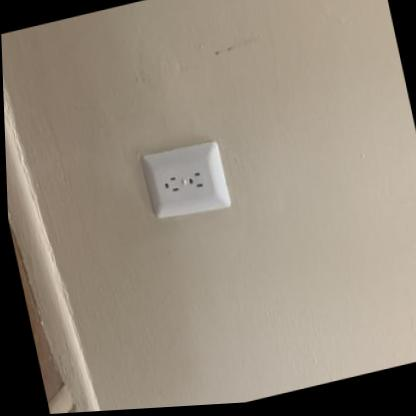OUTLET: (137, 133, 234, 226)
